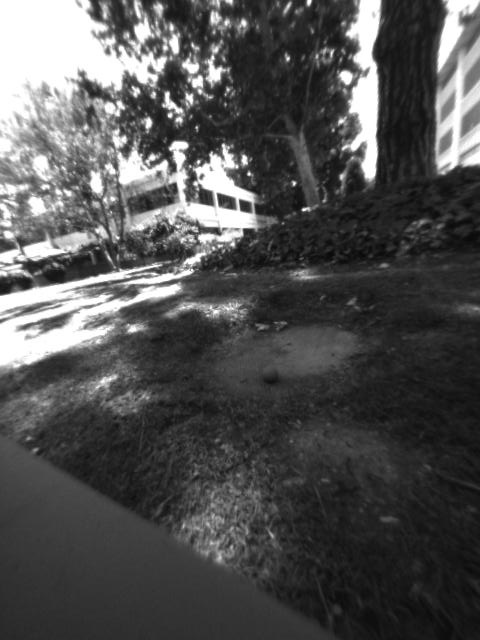dogtoy: (250, 353, 288, 392)
